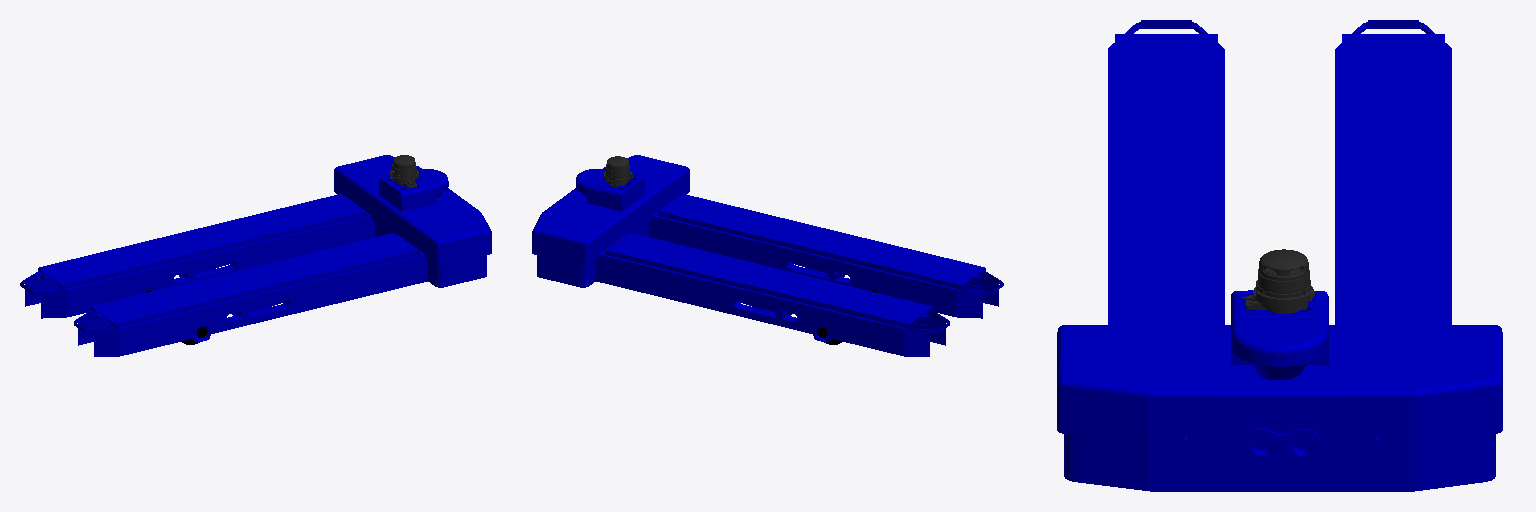
URDF robot description (agv_car):
<?xml version="1.0" encoding="utf-8"?>
<!-- This URDF was automatically created by SolidWorks to URDF Exporter! Originally created by [author] ([email redacted]) 
     Commit Version: 1.6.0-4-g7f85cfe  Build Version: 1.6.7995.38578
     For more information, please see http://wiki.ros.org/sw_urdf_exporter -->
<robot name="agv_car">

  <!-- Gazebo -->

  <gazebo>
    <plugin name="gazebo_ros_control" filename="libgazebo_ros_control.so">
      <robotNamespace>/agv_car</robotNamespace>
    </plugin>
  </gazebo>

  <gazebo reference="base_link">
    <kp>100000.0</kp>
    <kd>100.0</kd>
    <mu1>1.5</mu1>
    <mu2>1.5</mu2>
    <fdir1>1 0 0</fdir1>
    <maxVel>1.0</maxVel>
    <minDepth>0.001</minDepth>
    <material>Gazebo/Blue</material>
  </gazebo>

  <gazebo reference="lidar_link">
  <!-- (các thông số vật lý/ma sát có thể giữ nguyên hoặc bỏ) -->
  <sensor type="ray" name="lidar">
    <!-- vị trí cảm biến trên link (nếu cần) -->

    <!-- BẮT BUỘC để Gazebo vẽ chùm tia -->
    <visualize>true</visualize>
    <update_rate>10</update_rate>

     <ray>
          <scan>
            <horizontal>
              <!-- 360° mượt: 720 tia (0.5°/tia); có thể tăng lên 1080 nếu cần -->
              <samples>720</samples>
              <resolution>1</resolution>                <!-- phải là số nguyên ≥1 -->
              <min_angle>-3.14159265</min_angle>       <!-- -π -->
              <max_angle> 3.14159265</max_angle>       <!-- +π -->
            </horizontal>
            <!-- KHÔNG có block <vertical> để đảm bảo 1 lớp duy nhất -->
          </scan>

          <range>
            <min>0.32</min>        <!-- né self-hit/ nhiễu gần -->
            <max>6.0</max>         <!-- A1 thường ~6–12 m; bạn để 6.0 ổn -->
            <resolution>0.01</resolution>
          </range>

          <noise>
            <type>gaussian</type>
            <mean>0.0</mean>
            <stddev>0.005</stddev>
          </noise>
        </ray>

    <plugin name="gazebo_ros_laser" filename="libgazebo_ros_laser.so">
      <topicName>/scan</topicName>
      <frameName>lidar_link</frameName>
      <!-- tùy chọn, giúp đồng bộ tốc độ publish -->
      <updateRate>10</updateRate>
      <alwaysOn>true</alwaysOn>
    </plugin>
  </sensor>
</gazebo>


  <gazebo reference="right_main_wheel_link">
    <kp>100000.0</kp>
    <kd>100.0</kd>
    <mu1>1.5</mu1>
    <mu2>1.5</mu2>
    <fdir1>1 0 0</fdir1>
    <maxVel>1.0</maxVel>
    <minDepth>0.001</minDepth>
    <material>Gazebo/Black</material>
  </gazebo>

  <gazebo reference="left_main_wheel_link">
    <kp>100000.0</kp>
    <kd>100.0</kd>
    <mu1>1.5</mu1>
    <mu2>1.5</mu2>
    <fdir1>1 0 0</fdir1>
    <maxVel>1.0</maxVel>
    <minDepth>0.001</minDepth>
    <material>Gazebo/Black</material>
  </gazebo>

  <gazebo reference="right_front_wheel_link">
    <kp>100000.0</kp>
    <kd>100.0</kd>
    <mu1>1.5</mu1>
    <mu2>1.5</mu2>
    <fdir1>1 0 0</fdir1>
    <maxVel>1.0</maxVel>
    <minDepth>0.001</minDepth>
    <material>Gazebo/Black</material>
  </gazebo>

  <gazebo reference="left_front_wheel_link">
    <kp>100000.0</kp>
    <kd>100.0</kd>
    <mu1>1.5</mu1>
    <mu2>1.5</mu2>
    <fdir1>1 0 0</fdir1>
    <maxVel>1.0</maxVel>
    <minDepth>0.001</minDepth>
    <material>Gazebo/Black</material>
  </gazebo>

  <link name="base_link">
    <inertial>
      <origin xyz="-0.192290573236363 0.000273206227342948 0.0514683977225685" rpy="0 0 0" />
      <mass value="16.3293342103243" />
      <inertia ixx="0.0212770375492799" ixy="7.25883413651117E-06" ixz="0.00215758988773764" iyy="1.55564290216292" iyz="5.48192673600604E-07" izz="1.56017032270012" />
    </inertial>
    <visual>
      <origin xyz="0 0 0" rpy="0 0 0" />
      <geometry>
        <mesh filename="package://agv_description/meshes/base_link.STL" />
      </geometry>
      <material name="blue">
        <color rgba="0.0 0.0 0.8 1.0"/>
      </material>
    </visual>
    <collision>
      <origin xyz="0 0 0" rpy="0 0 0" />
      <geometry>
        <mesh filename="package://agv_description/meshes/base_link.STL" />
      </geometry>
    </collision>
  </link>


  <link name="lidar_link">
    <inertial>
      <origin xyz="-1.52384838150166E-05 -0.000738135964715392 -0.039103793678701" rpy="0 0 0" />
      <mass value="0.293916154164646" />
      <inertia ixx="0.000124611724189049" ixy="-6.31874523970842E-07" ixz="1.03428175818311E-06" iyy="0.000112429945625781" iyz="-3.45080374886339E-07" izz="0.000220404990973963" />
    </inertial>
    <visual>
      <origin xyz="0 0 0" rpy="0 0 0" />
      <geometry>
        <mesh filename="package://agv_description/meshes/lidar_link.STL" />
      </geometry>
      <material name="grey">
        <color rgba="0.2 0.2 0.2 1.0"/>
      </material>
    </visual>
    <collision>
      <origin xyz="0 0 0" rpy="0 0 0" />
      <geometry>
        <mesh filename="package://agv_description/meshes/lidar_link.STL" />
      </geometry>
    </collision>
  </link>
  <joint name="lidar_joint" type="fixed">
    <origin xyz="0.37599032923391 0.00560454991403092 0.304592005075015" rpy="0 0 0" />
    <parent link="base_link" />
    <child link="lidar_link" />
    <axis xyz="0 0 0" />
    <limit lower="0" upper="0" effort="0" velocity="0" />
  </joint>


  <link name="right_main_wheel_link">
    <inertial>
      <origin xyz="-1.54765089632747E-13 0.0850000106615442 -1.20459198171829E-13" rpy="0 0 0" />
      <mass value="0.745812681232109" />
      <inertia ixx="0.00129469600230131" ixy="1.7865957393857E-15" ixz="6.96702056125284E-08" iyy="0.00139189819473726" iyz="1.54495829032874E-15" izz="0.00129471702318901" />
    </inertial>
    <visual>
      <origin xyz="0 0 0" rpy="0 0 0" />
      <geometry>
        <mesh filename="package://agv_description/meshes/right_main_wheel_link.STL" />
      </geometry>
      <material name="black">
        <color rgba="0.0 0.0 0.0 1.0"/>
      </material>
    </visual>
    <collision>
      <origin xyz="0 0 0" rpy="0 0 0" />
      <geometry>
        <mesh filename="package://agv_description/meshes/right_main_wheel_link.STL" />
      </geometry>
    </collision>
  </link>
  <joint name="right_main_wheel_joint" type="continuous">
    <origin xyz="-0.496441637210722 -0.250014571629858 0.00999999999638312" rpy="0 0 0" />
    <parent link="base_link" />
    <child link="right_main_wheel_link" />
    <axis xyz="0 -1 0" />
    <limit effort="0" velocity="10" />
  </joint>
  <link name="left_main_wheel_link">
    <inertial>
      <origin xyz="6.06847905260111E-13 0.0850000106603286 -3.73256980878978E-13" rpy="0 0 0" />
      <mass value="0.745812681232098" />
      <inertia ixx="0.0012946360965068" ixy="-5.01986749747639E-16" ixz="2.44138403576605E-09" iyy="0.00139189819473726" iyz="-2.21144916392371E-15" izz="0.00129477692898351" />
    </inertial>
    <visual>
      <origin xyz="0 0 0" rpy="0 0 0" />
      <geometry>
        <mesh filename="package://agv_description/meshes/left_main_wheel_link.STL" />
      </geometry>
      <material name="black">
        <color rgba="0.0 0.0 0.0 1.0"/>
      </material>
    </visual>
    <collision>
      <origin xyz="0 0 0" rpy="0 0 0" />
      <geometry>
        <mesh filename="package://agv_description/meshes/left_main_wheel_link.STL" />
      </geometry>
    </collision>
  </link>
  <joint name="left_main_wheel_joint" type="continuous">
    <origin xyz="-0.496441637210722 0.079985428370142 0.00999999999638312" rpy="0 0 0" />
    <parent link="base_link" />
    <child link="left_main_wheel_link" />
    <axis xyz="0 -1 0" />
    <limit effort="0" velocity="10" />
  </joint>
  <link name="right_front_wheel_link">
    <inertial>
      <origin xyz="0.000676378335069394 0.0450460860929714 1.66906084508867E-08" rpy="0 0 0" />
      <mass value="0.217124452257966" />
      <inertia ixx="0.000121991191247687" ixy="9.71012430184508E-07" ixz="-1.4584553933088E-10" iyy="0.000186643383873472" iyz="8.28214222028593E-11" izz="0.000121976675731269" />
    </inertial>
    <visual>
      <origin xyz="0 0 0" rpy="0 0 0" />
      <geometry>
        <mesh filename="package://agv_description/meshes/right_front_wheel_link.STL" />
      </geometry>
      <material name="black">
        <color rgba="0.0 0.0 0.0 1.0"/>
      </material>
    </visual>
    <collision>
      <origin xyz="0 0 0" rpy="0 0 0" />
      <geometry>
        <mesh filename="package://agv_description/meshes/right_front_wheel_link.STL" />
      </geometry>
    </collision>
  </link>
  <joint name="right_front_wheel_joint" type="continuous">
    <origin xyz="0.386372250383229 -0.22690884723017 0.00100000000281475" rpy="0 0 0" />
    <parent link="base_link" />
    <child link="right_front_wheel_link" />
    <axis xyz="-0.0150134947978406 -0.999887291135334 0" />
  </joint>
  <link name="left_front_wheel_link">
    <inertial>
      <origin xyz="-0.000521779881353157 0.0450481377135437 2.2837272406484E-08" rpy="0 0 0" />
      <mass value="0.217124482379157" />
      <inertia ixx="0.000121985204093452" ixy="-7.49011365935949E-07" ixz="-6.75979531643611E-11" iyy="0.000186649290119805" iyz="1.27959798311389E-10" izz="0.000121976809291945" />
    </inertial>
    <visual>
      <origin xyz="0 0 0" rpy="0 0 0" />
      <geometry>
        <mesh filename="package://agv_description/meshes/left_front_wheel_link.STL" />
      </geometry>
      <material name="black">
        <color rgba="0.0 0.0 0.0 1.0"/>
      </material>
    </visual>
    <collision>
      <origin xyz="0 0 0" rpy="0 0 0" />
      <geometry>
        <mesh filename="package://agv_description/meshes/left_front_wheel_link.STL" />
      </geometry>
    </collision>
  </link>
  <joint name="left_front_wheel_joint" type="continuous">
    <origin xyz="0.387593833307685 0.135025220527393 0.00100000000282352" rpy="0 0 0" />
    <parent link="base_link" />
    <child link="left_front_wheel_link" />
    <axis xyz="0.0115823351866677 -0.999932922506117 0" />
  </joint>
</robot>

--- Facts derived from the render (not from the file) ---
Views: 3 orthographic renders of the robot side by side, from view 1: azimuth 30°, elevation 25°; view 2: azimuth 150°, elevation 25°; view 3: azimuth 270°, elevation 25°.
Robot: agv_car — 6 links, 5 joints (4 continuous, 1 fixed); root link base_link; default pose: all joints at 0.
Links seen in each view (by area): view 1: base_link, lidar_link; view 2: base_link, lidar_link; view 3: base_link, lidar_link.
Boxes of the visible links, x1=… form: base_link: x1=20, y1=155, x2=491, y2=356; lidar_link: x1=390, y1=155, x2=418, y2=188; base_link: x1=532, y1=155, x2=1003, y2=356; lidar_link: x1=603, y1=156, x2=632, y2=186; base_link: x1=1057, y1=20, x2=1502, y2=491; lidar_link: x1=1242, y1=249, x2=1314, y2=313.
Size in the robot's own frame: 1.43 by 0.647 by 0.357 metres.
6 mesh visuals loaded from 6 distinct referenced files (6 binary STL).
